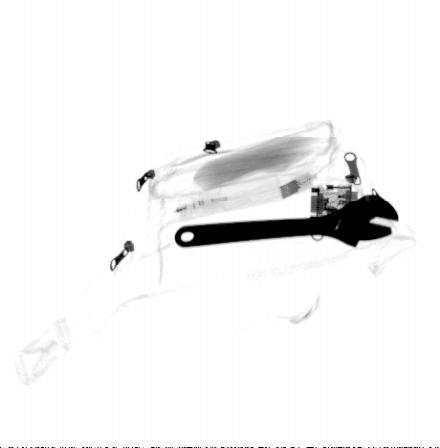Wrench: (172, 191, 401, 250)
